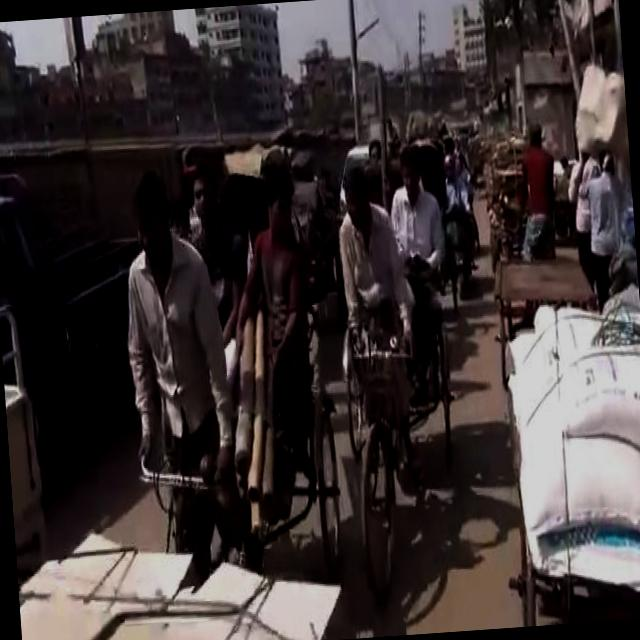motorcycle: (115, 160, 346, 575), (322, 139, 469, 603), (477, 113, 606, 390), (439, 136, 481, 290)
truck: (0, 156, 157, 434)
